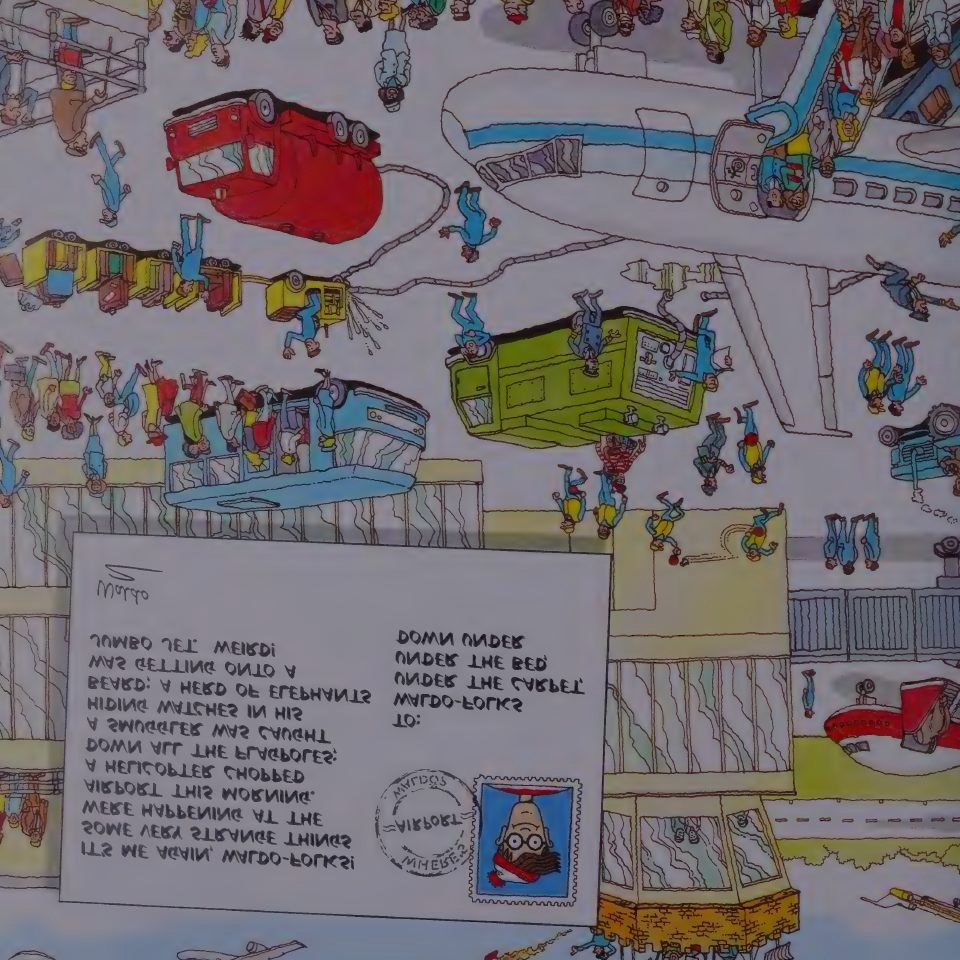waldo: (483, 788, 568, 889), (595, 434, 646, 495)
